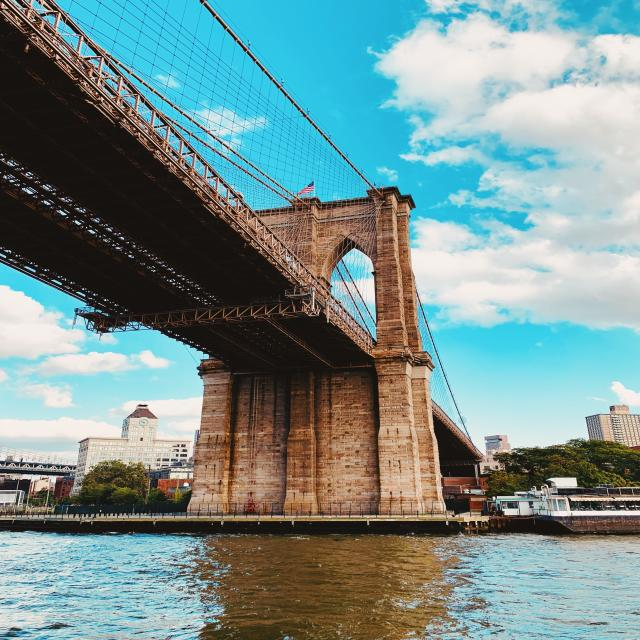Metal: (0, 0, 380, 369)
